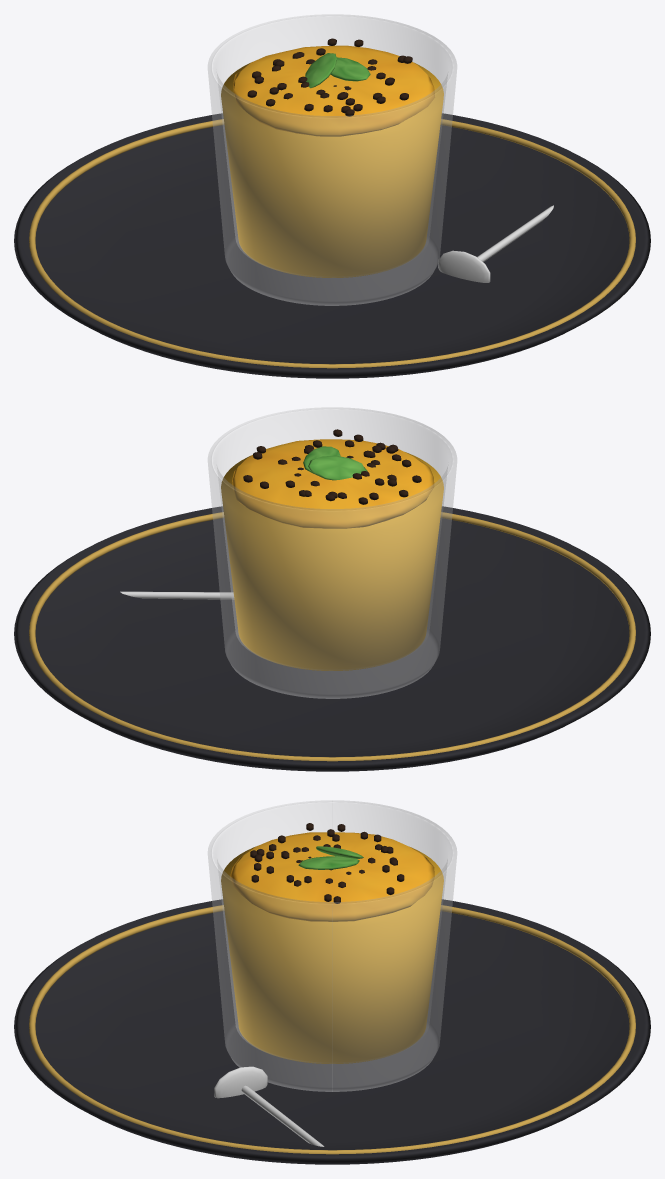
The model's file is mousse.glb.
The picture shows the model from 3 angles, top to bottom: view 1: azimuth 30°, elevation 25°; view 2: azimuth 150°, elevation 25°; view 3: azimuth 270°, elevation 25°; orthographic projection.
Bounding box in the file's own units: 0.2387 × 0.089 × 0.2387.
